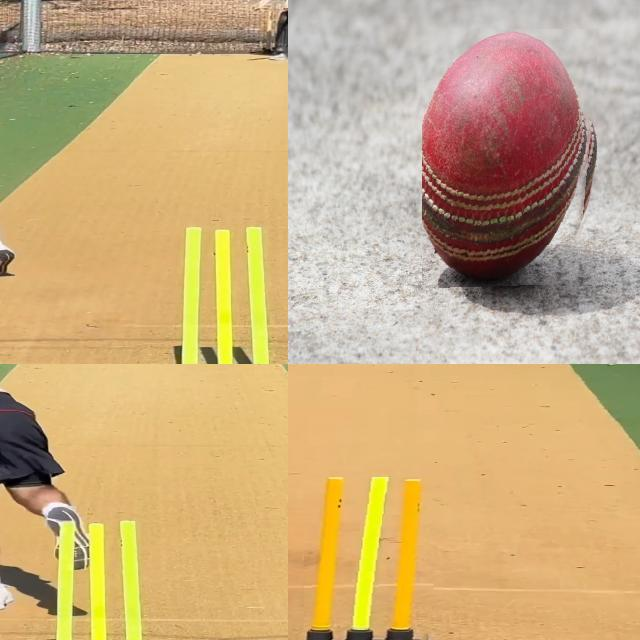Cricket ball: (422, 29, 600, 289)
Stumps: (304, 477, 444, 640), (46, 519, 151, 640)
